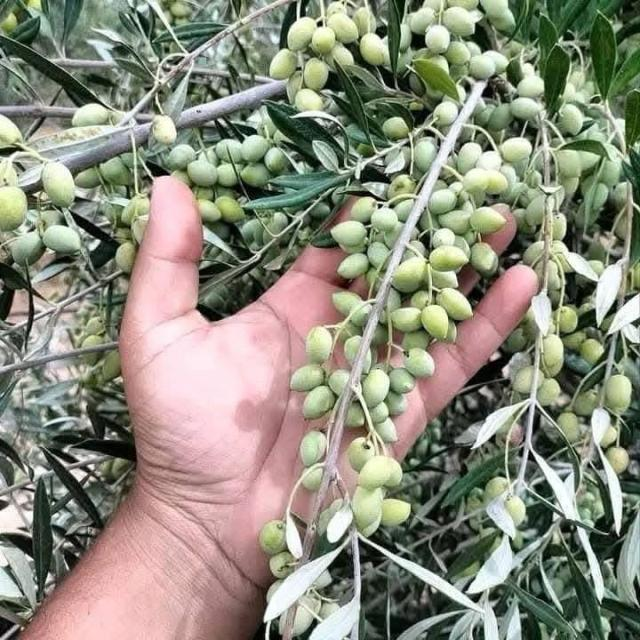Healthy: (42, 162, 78, 209), (392, 255, 428, 293), (358, 455, 393, 491), (436, 287, 473, 320), (42, 224, 81, 254), (302, 385, 336, 419), (420, 304, 451, 341), (362, 369, 389, 408), (429, 245, 468, 272), (470, 207, 506, 236), (604, 373, 633, 409), (304, 327, 332, 364), (259, 519, 287, 556), (300, 430, 327, 468), (404, 347, 436, 378), (443, 6, 475, 37), (288, 17, 317, 51), (290, 364, 325, 392), (331, 221, 367, 248), (187, 156, 217, 188), (303, 58, 330, 92), (499, 137, 532, 164), (360, 33, 387, 66), (269, 49, 298, 79), (337, 253, 369, 280), (241, 134, 269, 163), (428, 188, 457, 215), (426, 24, 450, 53)
